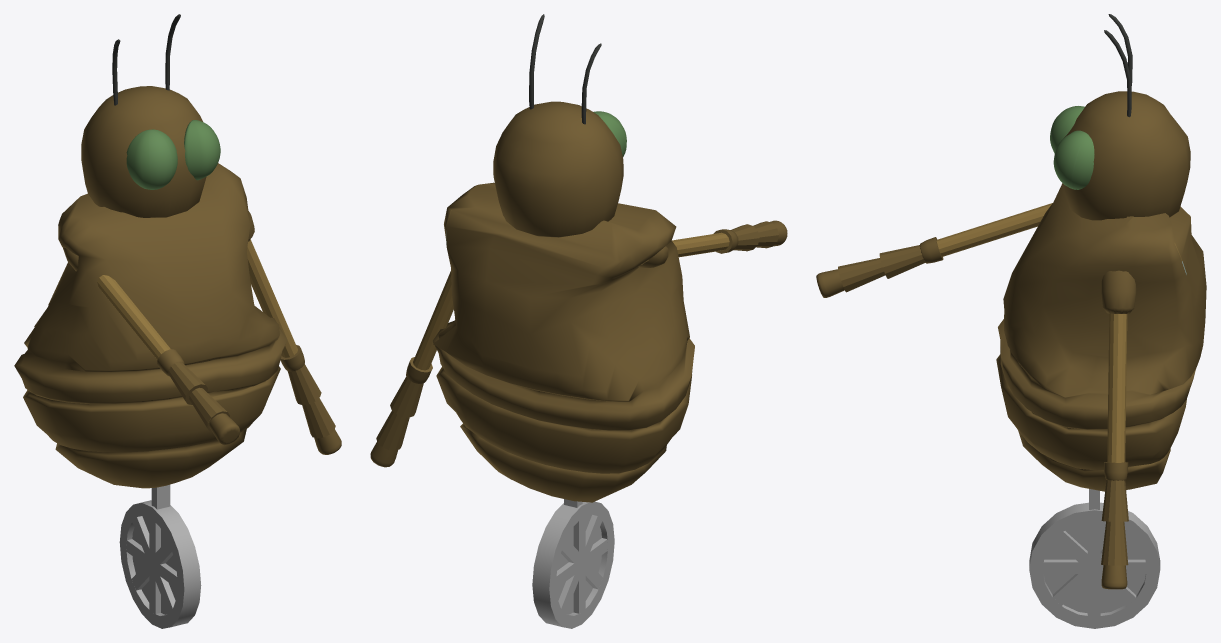
File: AlienFix.fbx
3 renders of one model, left to right at view 1: azimuth 30°, elevation 25°; view 2: azimuth 150°, elevation 25°; view 3: azimuth 270°, elevation 25°, orthographic.
Visible parts, largest first — view 1: pCube41; view 2: pCube41; view 3: pCube41.
Boxes of the visible parts, x1,y1,x2,y2 form: pCube41: (14, 14, 341, 628); pCube41: (370, 14, 787, 628); pCube41: (816, 14, 1206, 628).
Bounding box in the file's own units: 5.49 × 10.21 × 5.95.
